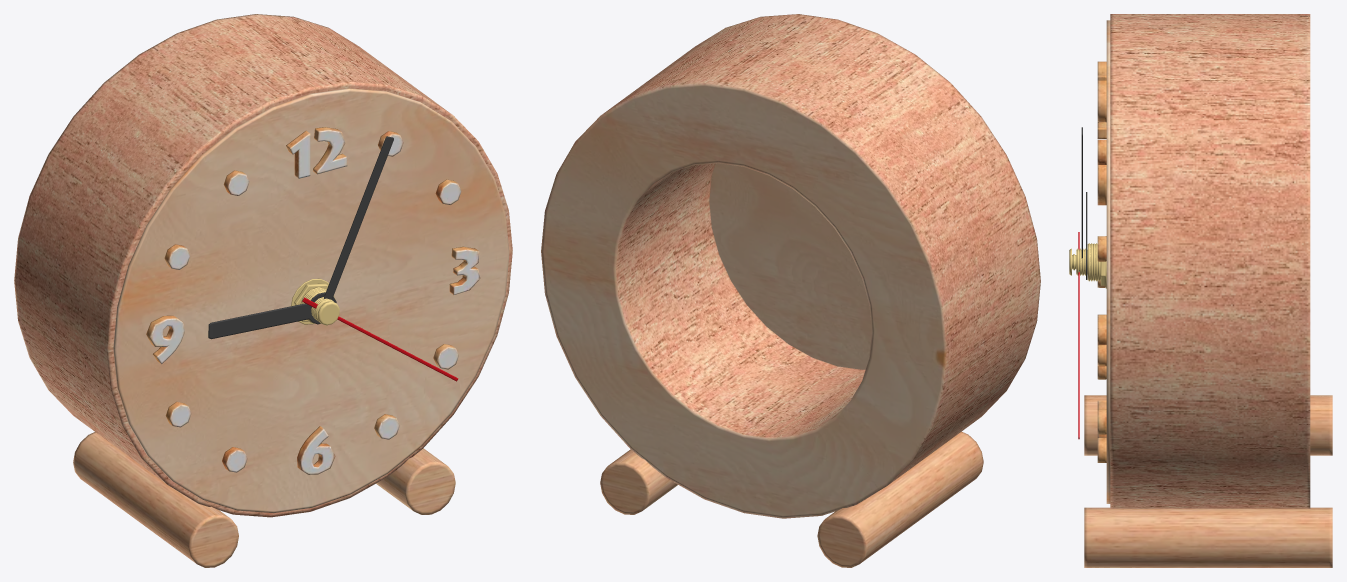
File: wooden-clock.glb
3 views of the same model, side by side, from view 1: azimuth 30°, elevation 25°; view 2: azimuth 150°, elevation 25°; view 3: azimuth 270°, elevation 25° (orthographic). The views are drawn at different scales.
Visible parts, largest first — view 1: Clock; view 2: Clock; view 3: Clock.
Boxes of the visible parts, bbox=[...] form: Clock: bbox=[14, 14, 512, 567]; Clock: bbox=[541, 14, 1040, 567]; Clock: bbox=[1069, 14, 1332, 567].
Size of the model in its own units: 0.14 by 0.1467 by 0.0742.
1 material, 1 textured.
